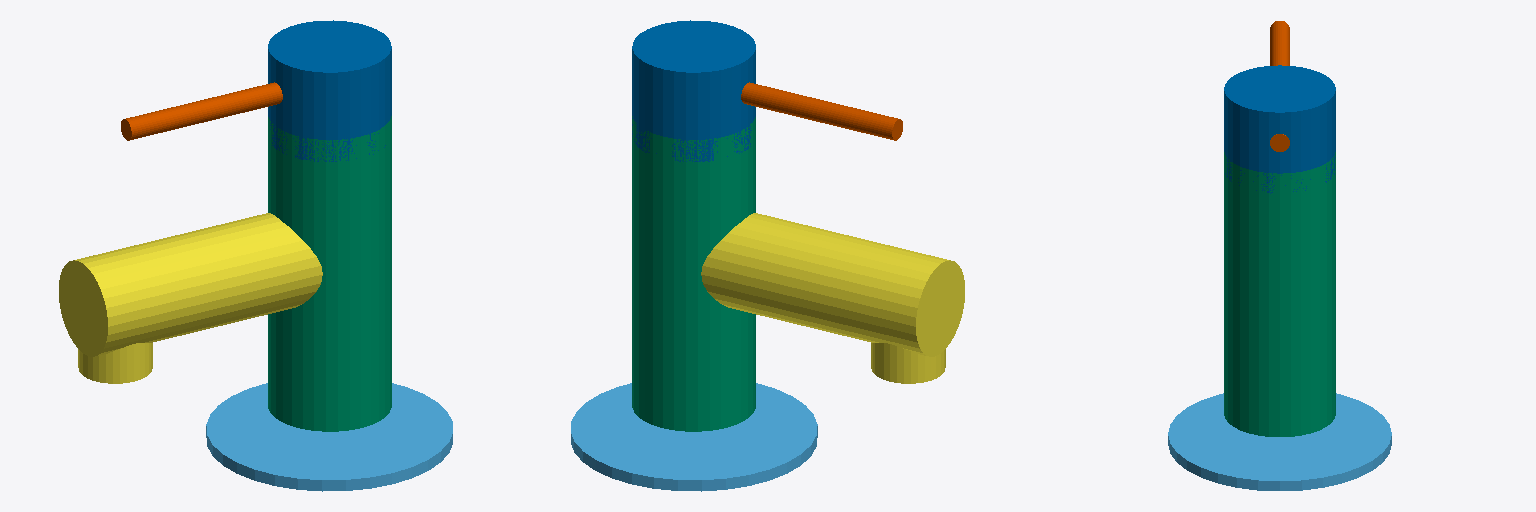
The robot description file, URDF, robot "faucet_model_rotated":
<?xml version="1.0"?>
<robot name="faucet_model_rotated">

  <!-- 新的全局根节点，作为旋转后的参考 -->
  <link name="global_base" />

  <!-- 固定关节：将 global_base 与原来的 base_link 连接，同时绕 z 轴旋转 180° -->
  <joint name="global_rotation" type="fixed">
    <!-- 旋转 180°（约 3.14159 弧度），平移为零 -->
    <origin xyz="0 0 0" rpy="0 0 3.14159"/>
    <parent link="global_base"/>
    <child link="base_link"/>
  </joint>

  <!-- 1. 基座：直径0.10m，高0.005m -->
  <link name="base_link">
    <visual>
      <origin xyz="0 0 0.0025" rpy="0 0 0"/>
      <geometry>
        <cylinder radius="0.05" length="0.005"/>
      </geometry>
      <material name="gray"/>
    </visual>
    <collision>
      <origin xyz="0 0 0.0025" rpy="0 0 0"/>
      <geometry>
        <cylinder radius="0.05" length="0.005"/>
      </geometry>
    </collision>
    <inertial>
      <mass value="0.1"/>
      <origin xyz="0 0 0.0025" rpy="0 0 0"/>
      <inertia ixx="1e-4" ixy="0" ixz="0" iyy="1e-4" iyz="0" izz="1e-4"/>
    </inertial>
  </link>

  <!-- 2. 主体：直径0.05m，高0.15m -->
  <link name="main_body">
    <visual>
      <origin xyz="0 0 0.075" rpy="0 0 0"/>
      <geometry>
        <cylinder radius="0.025" length="0.13"/>
      </geometry>
      <material name="silver"/>
    </visual>
    <collision>
      <origin xyz="0 0 0.075" rpy="0 0 0"/>
      <geometry>
        <cylinder radius="0.025" length="0.13"/>
      </geometry>
    </collision>
    <inertial>
      <mass value="0.2"/>
      <origin xyz="0 0 0.075" rpy="0 0 0"/>
      <inertia ixx="1e-4" ixy="0" ixz="0" iyy="1e-4" iyz="0" izz="1e-4"/>
    </inertial>
  </link>

  <!-- 固定关节：base_link 到 main_body -->
  <joint name="joint_base_to_body" type="fixed">
    <origin xyz="0 0 0.005" rpy="0 0 0"/>
    <parent link="base_link"/>
    <child link="main_body"/>
  </joint>

  <!-- 3. 出水部分(spout_link)：包含水平出水管和垂直出水口 -->
  <link name="spout_link">
    <visual>
      <origin xyz="0.05 0 0" rpy="0 -1.5708 0"/>
      <geometry>
        <cylinder radius="0.02" length="0.13"/>
      </geometry>
      <material name="blue"/>
    </visual>
    <collision>
      <origin xyz="0.05 0 0" rpy="0 -1.5708 0"/>
      <geometry>
        <cylinder radius="0.02" length="0.13"/>
      </geometry>
    </collision>
    <visual>
      <origin xyz="0.1 0 -0.02" rpy="0 0 0"/>
      <geometry>
        <cylinder radius="0.015" length="0.02"/>
      </geometry>
      <material name="blue"/>
    </visual>
    <collision>
      <origin xyz="0.1 0 -0.02" rpy="0 0 0"/>
      <geometry>
        <cylinder radius="0.015" length="0.02"/>
      </geometry>
    </collision>
    <inertial>
      <mass value="0.1"/>
      <origin xyz="0.075 0 0.005" rpy="0 0 0"/>
      <inertia ixx="1e-4" ixy="0" ixz="0" iyy="1e-4" iyz="0" izz="1e-4"/>
    </inertial>
  </link>

  <!-- 固定关节：将 spout_link 固定在 main_body 上，连接点在 main_body 坐标中距离底部 0.10 m处 -->
  <joint name="joint_body_to_spout" type="fixed">
    <origin xyz="0 0 0.08" rpy="0 0 0"/>
    <parent link="main_body"/>
    <child link="spout_link"/>
  </joint>

  <!-- 4. 顶端旋转部分(top_link)：直径0.05m，高0.04m -->
  <link name="top_link">
    <visual>
      <origin xyz="0 0 0.02" rpy="0 0 0"/>
      <geometry>
        <cylinder radius="0.025" length="0.04"/>
      </geometry>
      <material name="silver"/>
    </visual>
    <collision>
      <origin xyz="0 0 0.02" rpy="0 0 0"/>
      <geometry>
        <cylinder radius="0.025" length="0.04"/>
      </geometry>
    </collision>
    <inertial>
      <mass value="0.1"/>
      <origin xyz="0 0 0.02" rpy="0 0 0"/>
      <inertia ixx="1e-4" ixy="0" ixz="0" iyy="1e-4" iyz="0" izz="1e-4"/>
    </inertial>
  </link>

  <!-- 旋转关节：main_body 到 top_link，绕 z 轴旋转 -->
  <joint name="joint_body_to_top" type="revolute">
    <origin xyz="0 0 0.13" rpy="0 0 0"/>
    <parent link="main_body"/>
    <child link="top_link"/>
    <axis xyz="0 0 1"/>
    <limit lower="-1.7" upper="1.7" effort="5.0" velocity="2.0"/>
  </joint>

  <!-- 5. 把手(handle_link)：直径0.0045m，长度0.11m -->
  <link name="handle_link">
    <visual>
      <origin xyz="0.035 0 0" rpy="0 -1.5708 0"/>
      <geometry>
        <cylinder radius="0.0045" length="0.12"/>
      </geometry>
      <material name="black"/>
    </visual>
    <collision>
      <origin xyz="0.035 0 0" rpy="0 -1.5708 0"/>
      <geometry>
        <cylinder radius="0.0045" length="0.12"/>
      </geometry>
    </collision>
    <inertial>
      <mass value="0.001"/>
      <origin xyz="0.035 0 0" rpy="0 0 0"/>
      <inertia ixx="1e-6" ixy="0" ixz="0" iyy="1e-6" iyz="0" izz="1e-6"/>
    </inertial>
  </link>

  <!-- 固定关节：top_link 到 handle_link，连接点在 top_link 内距底部 0.025 m处 -->
  <joint name="joint_top_to_handle" type="fixed">
    <origin xyz="0 0 0.025" rpy="0 0 0"/>
    <parent link="top_link"/>
    <child link="handle_link"/>
  </joint>

</robot>

--- Render facts (derived) ---
The picture shows the robot from 3 angles, left to right: view 1: azimuth 30°, elevation 25°; view 2: azimuth 150°, elevation 25°; view 3: azimuth 270°, elevation 25°; orthographic projection.
Model faucet_model_rotated with 6 links and 5 joints (1 revolute, 4 fixed), rooted at global_base, posed every joint at zero.
Links seen in each view (by area): view 1: main_body, spout_link, base_link, top_link, handle_link; view 2: main_body, spout_link, base_link, top_link, handle_link; view 3: main_body, base_link, top_link, handle_link.
Link boxes in pixels (x1,y1,x2,y2): main_body: (268, 116, 391, 431); spout_link: (59, 213, 322, 383); base_link: (206, 383, 452, 491); top_link: (268, 20, 391, 161); handle_link: (121, 82, 282, 140); main_body: (632, 116, 755, 431); spout_link: (701, 213, 964, 383); base_link: (571, 383, 817, 491); top_link: (632, 20, 755, 161); handle_link: (741, 82, 902, 140); main_body: (1224, 152, 1335, 436); base_link: (1168, 393, 1391, 490); top_link: (1224, 65, 1335, 193); handle_link: (1270, 21, 1289, 151).
Bounding box of the posed robot: 0.165 × 0.1 × 0.175 m (x, y, z).
Geometry: primitives only (box / cylinder / sphere), no mesh files.
